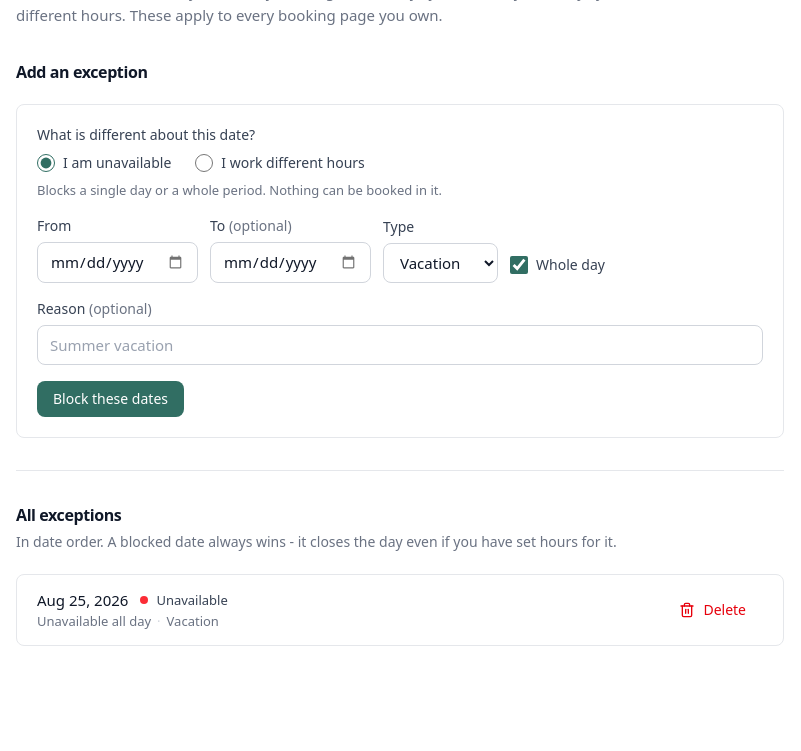
DateExceptionsPage › blocking dates › reports a failed delete instead of leaving the row silently in place
Step 1. Click the button with aria-label "delete blocked period" → {"x": 713, "y": 610}, box x1=662 y1=591 x2=763 y2=629
(page scrolled)
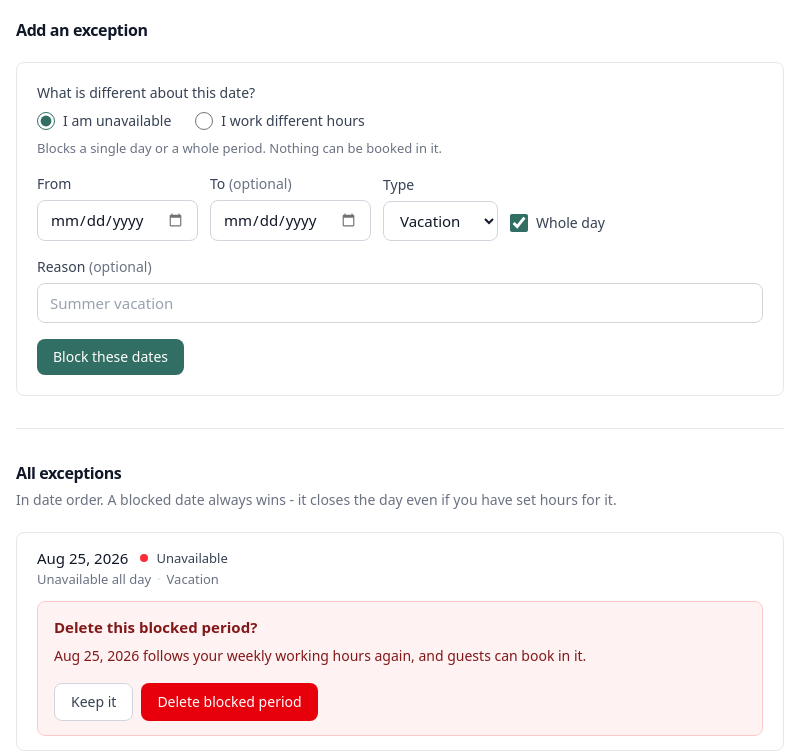
Step 2. Click the button "Delete blocked period" → {"x": 230, "y": 702}, box x1=141 y1=683 x2=318 y2=721
(page scrolled)
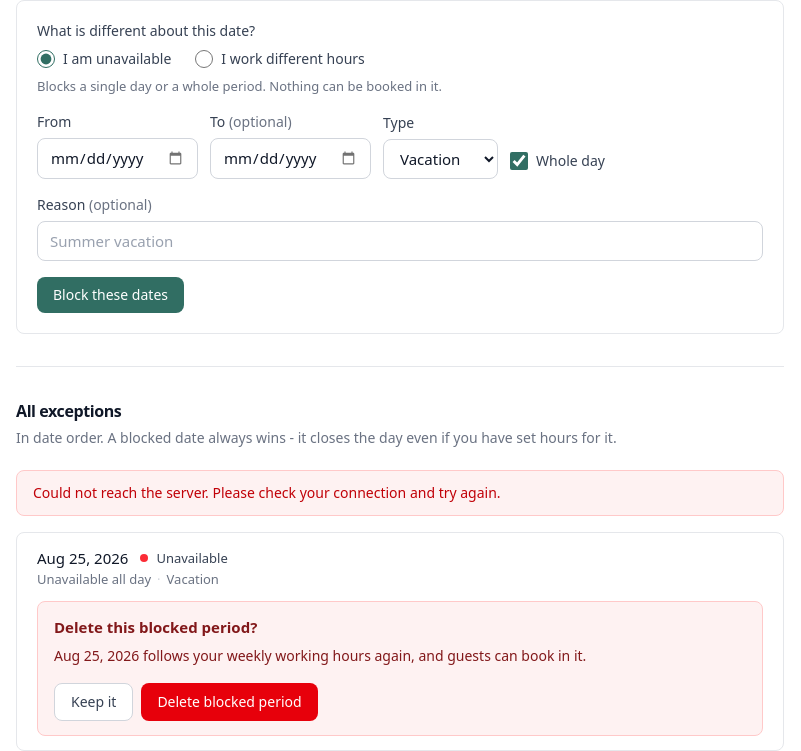
Check: the button "Delete blocked period" is shown, box x1=141 y1=683 x2=318 y2=721
Check: the message shows "Could not reach", box x1=33 y1=483 x2=501 y2=502
